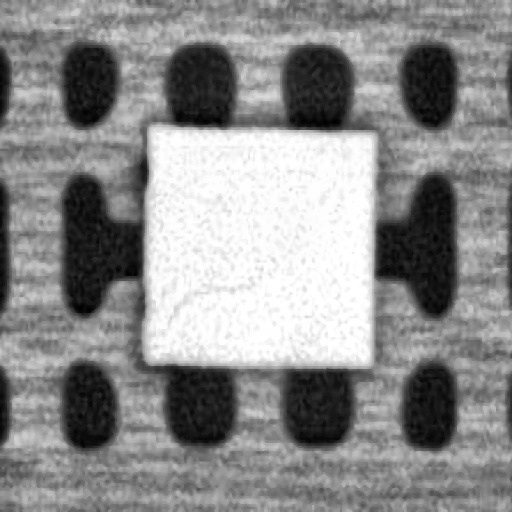DIE_CRACK: (163, 276, 250, 334)
